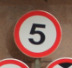speed_limit_5: (14, 10, 61, 58)
